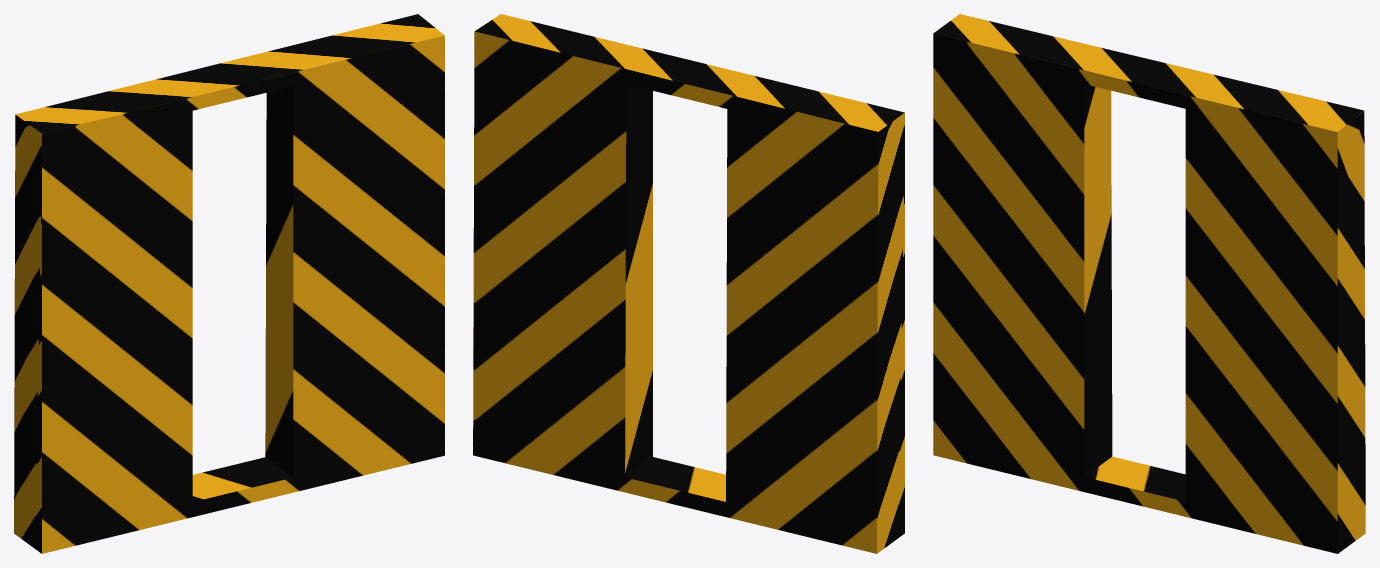
File: BigRectangleHole.fbx
3 renders of one model, left to right at view 1: azimuth 30°, elevation 25°; view 2: azimuth 150°, elevation 25°; view 3: azimuth 330°, elevation 25°, orthographic.
Parts seen in each view (by area): view 1: BigRectangleHole; view 2: BigRectangleHole; view 3: BigRectangleHole.
Boxes of the visible parts, box(x1,y1,x2,y2) form: BigRectangleHole: box(14, 14, 444, 553); BigRectangleHole: box(473, 14, 904, 553); BigRectangleHole: box(933, 14, 1365, 553).
Bounding box in the file's own units: 1.67 × 1.67 × 0.2.
